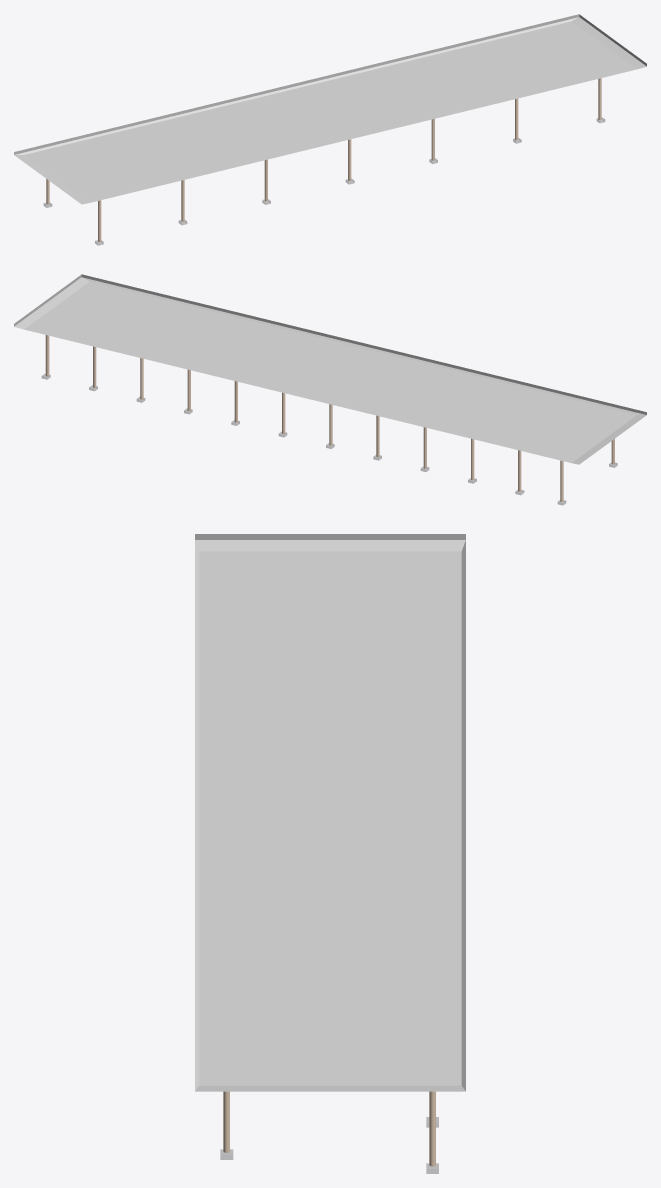
The model's file is ParkiranMobilDosen.gltf.
3 renders of one model, top to bottom at view 1: azimuth 30°, elevation 25°; view 2: azimuth 150°, elevation 25°; view 3: azimuth 270°, elevation 25°, orthographic. The views are drawn at different scales.
Parts seen in each view (by area): view 1: Plane.030, Cylinder.004; view 2: Plane.030, Cylinder.001, Plane.029; view 3: Plane.030.
Boxes of the visible parts, x1=… form: Plane.030: x1=14, y1=14, x2=646, y2=204; Cylinder.004: x1=98, y1=78, x2=601, y2=242; Plane.030: x1=14, y1=274, x2=646, y2=464; Cylinder.001: x1=45, y1=335, x2=521, y2=491; Plane.029: x1=41, y1=374, x2=524, y2=495; Plane.030: x1=195, y1=534, x2=465, y2=1091.
Size of the model in its own units: 332 by 30.49 by 68.85.
